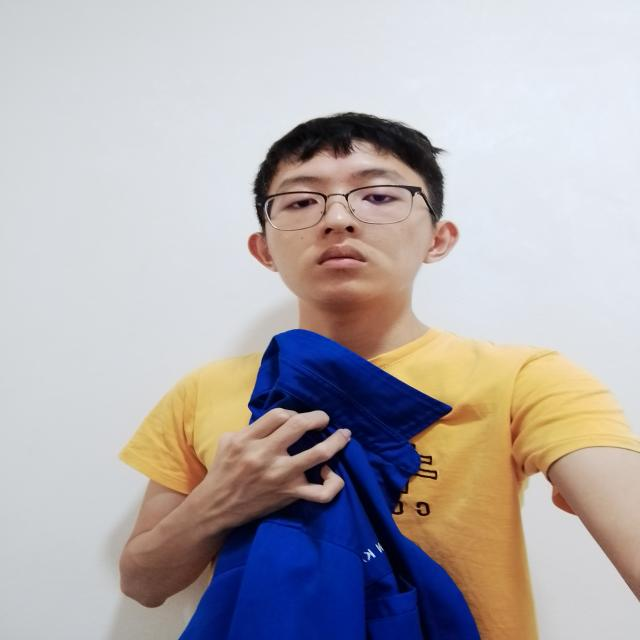person_without_labcoat: (120, 114, 640, 640)
